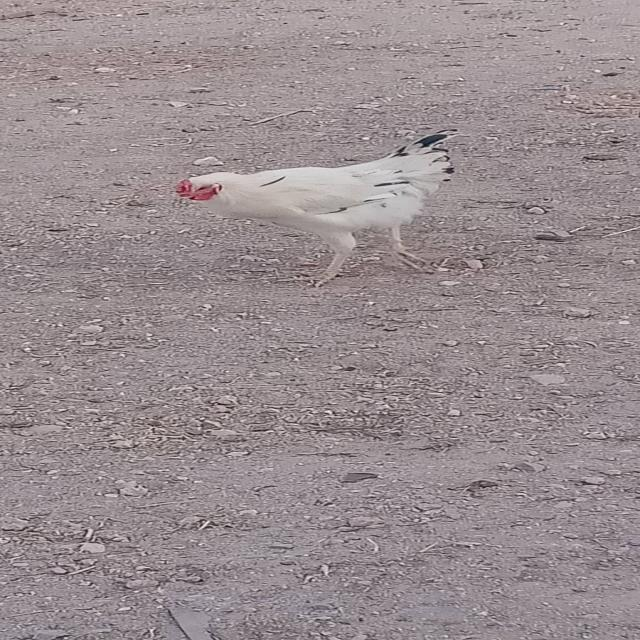Healthy: (171, 122, 478, 303)
